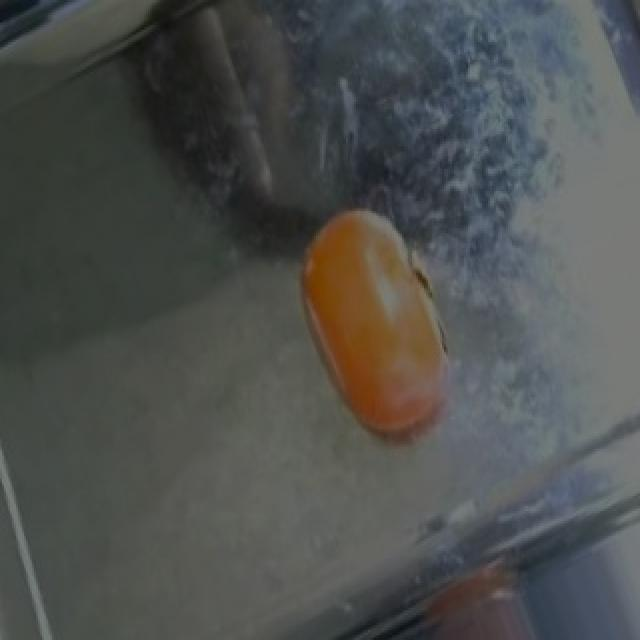Fruit: (278, 186, 474, 459), (370, 548, 566, 640)
